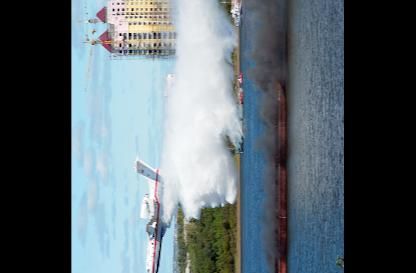B52: (133, 149, 165, 272)
